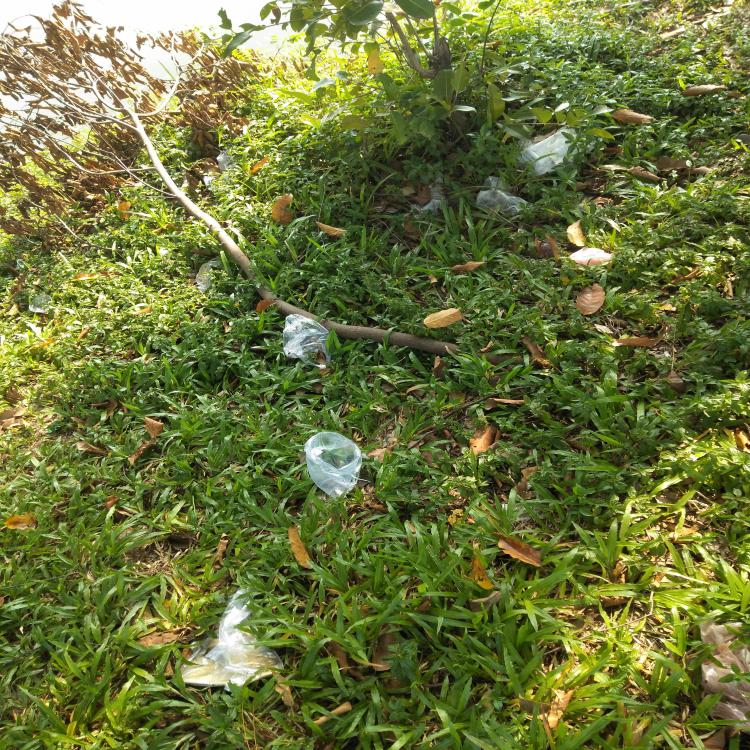Other plastic wrapper: (16, 258, 26, 268)
Plastic film: (181, 588, 284, 692), (698, 618, 748, 721), (305, 432, 362, 496), (516, 126, 576, 177), (283, 314, 331, 369), (477, 176, 529, 215), (408, 178, 446, 216), (205, 150, 243, 187), (196, 257, 223, 294), (568, 248, 614, 266)
Plastic lid: (29, 294, 52, 313)
